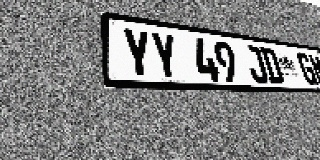4: (191, 37, 221, 81)
9: (212, 40, 241, 82)
D: (259, 47, 285, 84)
G: (295, 52, 319, 86)
J: (243, 45, 270, 84)
M: (307, 54, 320, 86)
Y: (121, 27, 154, 79), (149, 31, 181, 80)
